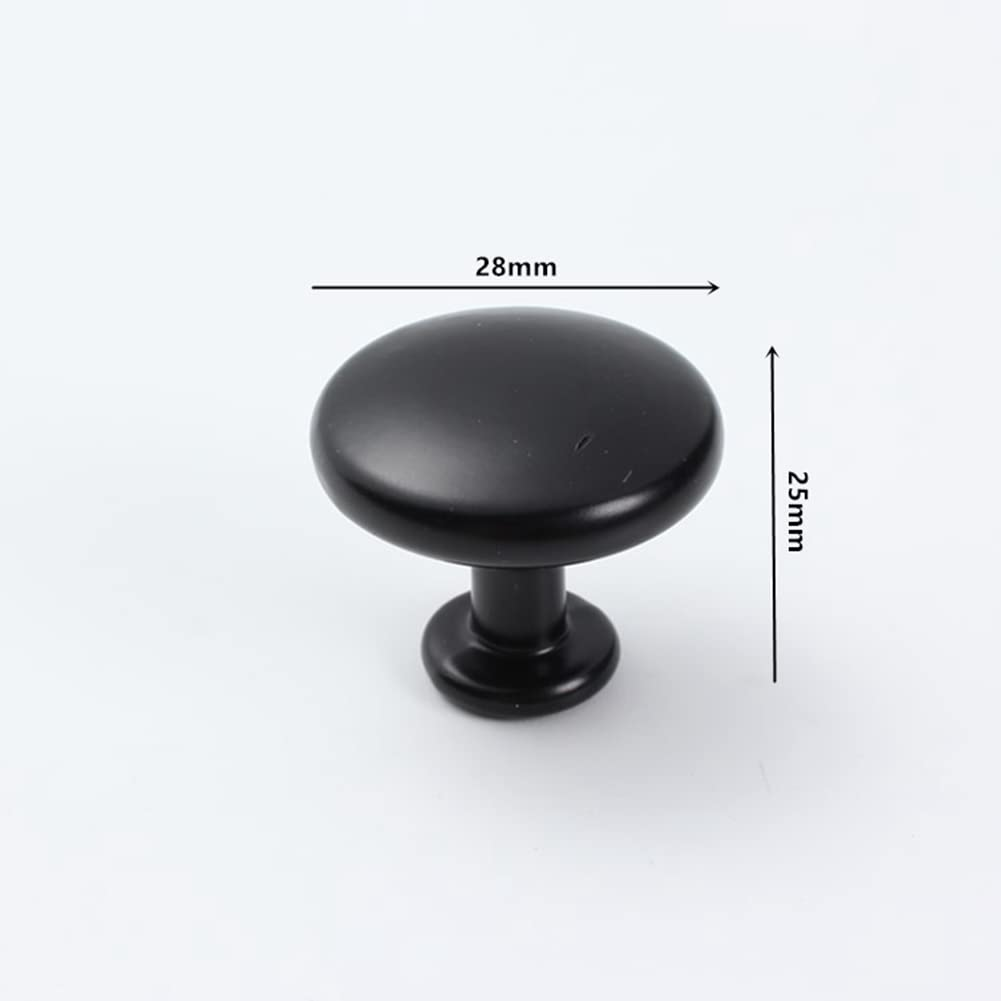25mm: (789, 472, 808, 551)
28mm: (476, 257, 556, 276)
